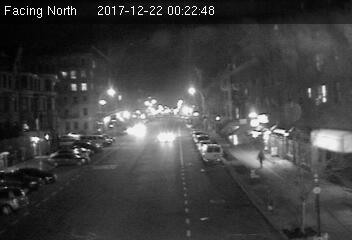pedestrian: (253, 149, 267, 169)
truck: (201, 143, 222, 164)
